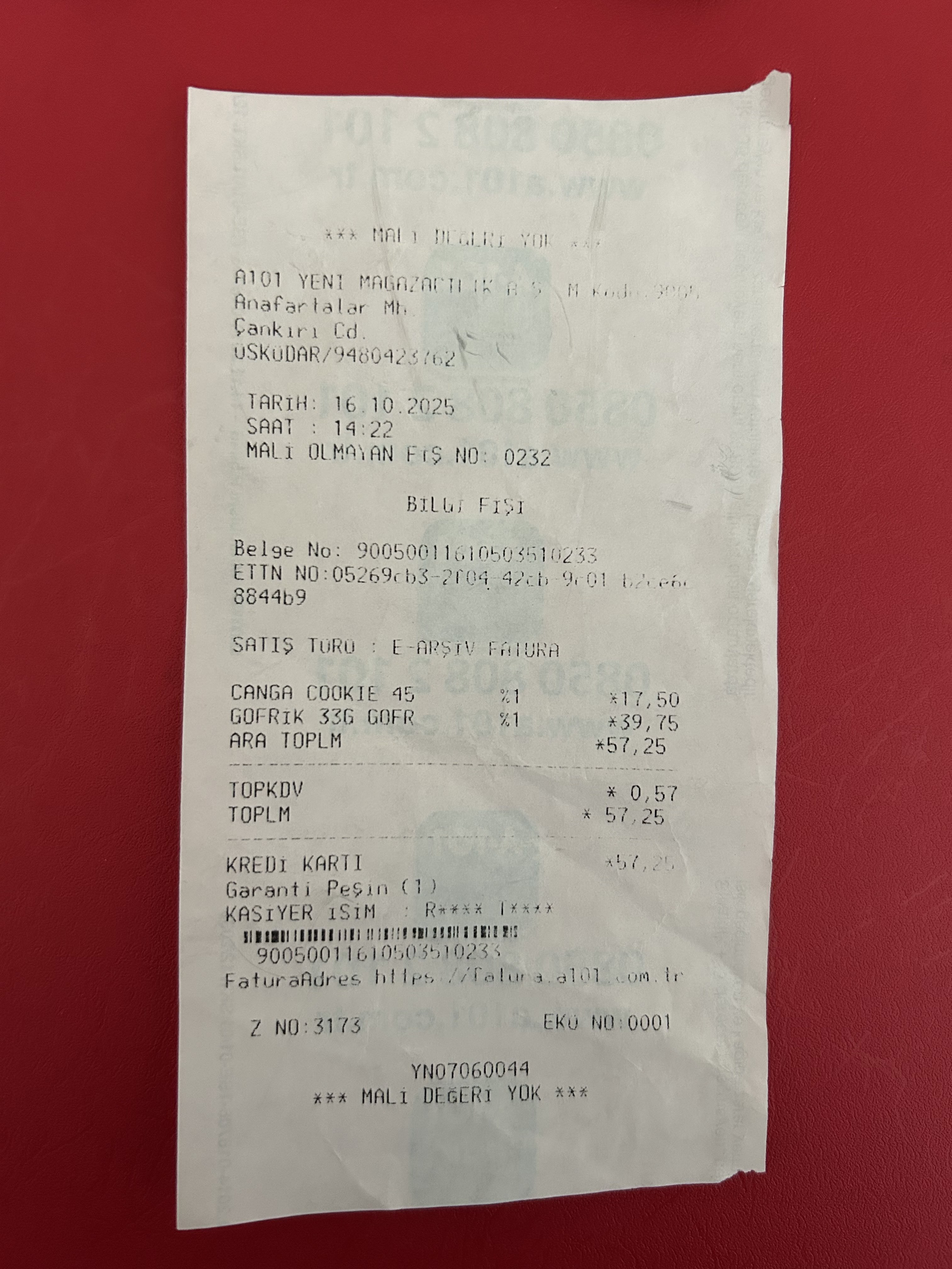date: (329, 388, 460, 418)
price: (599, 802, 676, 831)
workplace: (219, 255, 717, 347)
